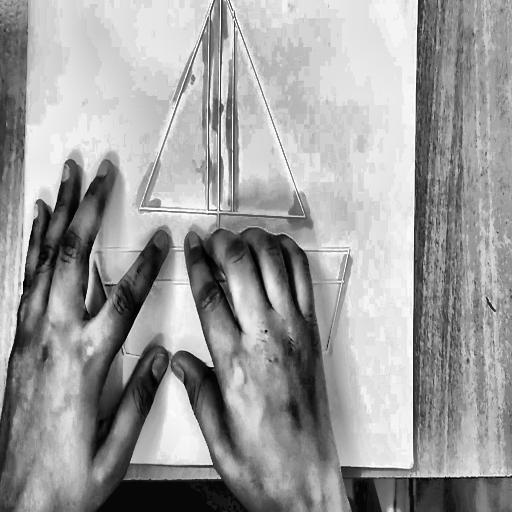boat: (87, 0, 362, 372)
bottom_left: (22, 445, 31, 461)
bottom_right: (409, 458, 417, 472)
